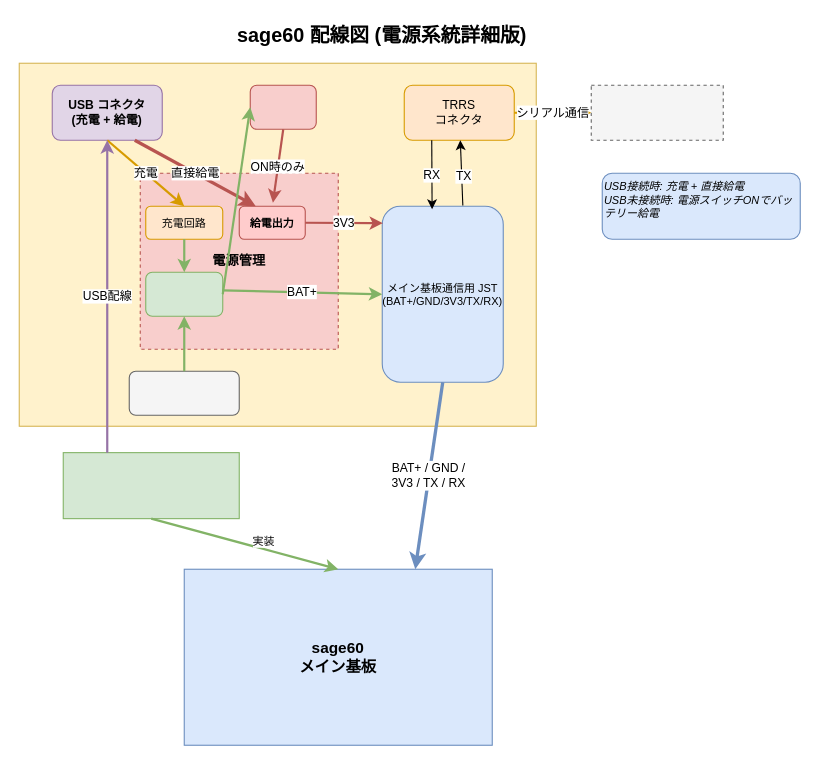
Image size: 820x765. Some labels were removed from this diagram. The centre of each missing label's shape, as x and y in pixels:
"Xiao BLE" belongs at point 150,485.
"バッテリー" belongs at point 183,392.
"バッテリー JST" belongs at point 184,293.
"別のキーボード" belongs at point 656,112.
"電源 スイッチ" belongs at point 282,106.
